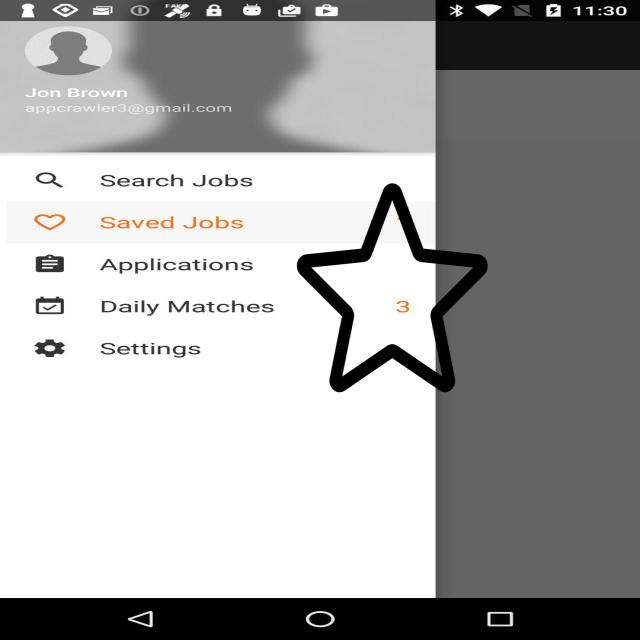forced continuity: (297, 178, 488, 396)
